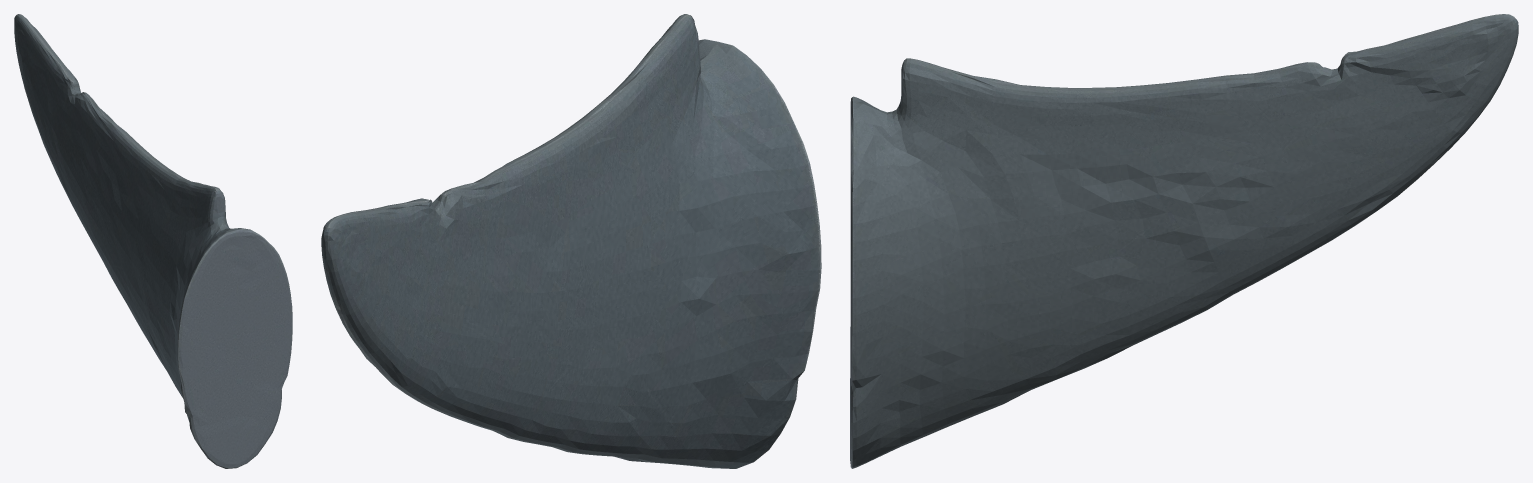
The model's file is ewm_dorsalfin.glb.
The picture shows the model from 3 angles, left to right: view 1: azimuth 30°, elevation 25°; view 2: azimuth 150°, elevation 25°; view 3: azimuth 270°, elevation 25°; orthographic projection. The views are drawn at different scales.
Parts seen in each view (by area): view 1: ewm_dorsalfin; view 2: ewm_dorsalfin; view 3: ewm_dorsalfin.
Part boxes in pixels (x1,y1,x2,y2): ewm_dorsalfin: (14,14,292,468); ewm_dorsalfin: (321,14,821,468); ewm_dorsalfin: (850,14,1518,468).
Bounding box in the file's own units: 0.09 × 0.2224 × 0.3.
Materials: 1 (1 with a texture image).
